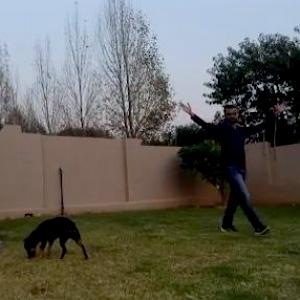takeoff: (172, 100, 278, 238)
